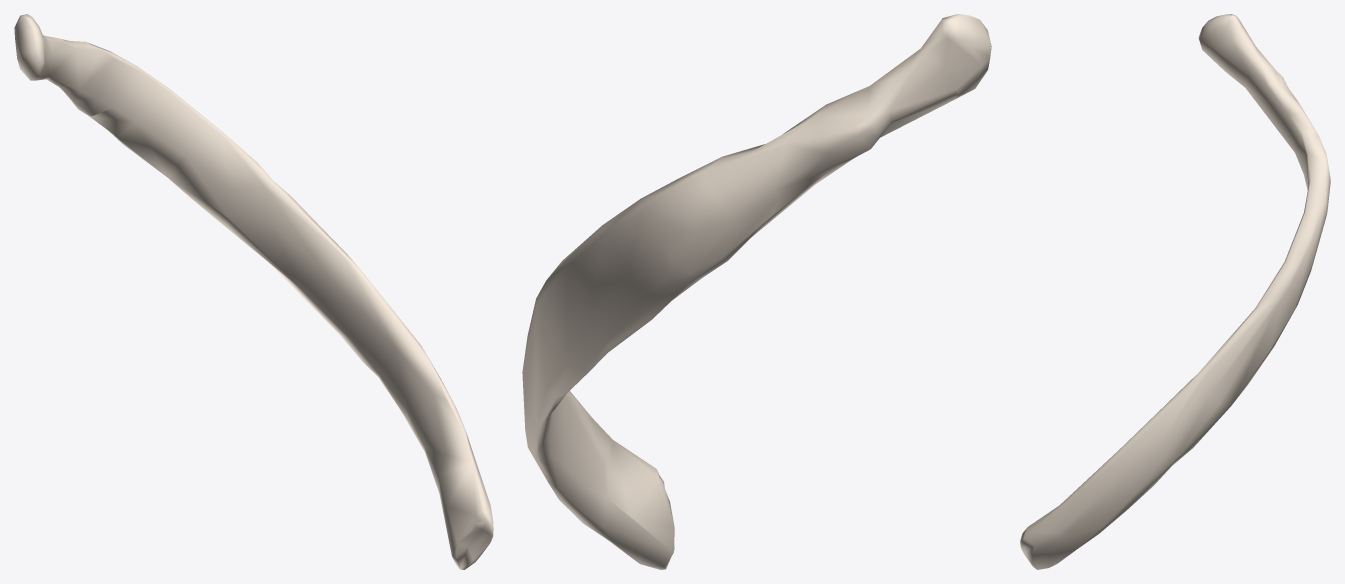
Rendered from left_rib_10.glb.
3 views of the same model, side by side, from view 1: azimuth 30°, elevation 25°; view 2: azimuth 150°, elevation 25°; view 3: azimuth 270°, elevation 25° (orthographic). The views are drawn at different scales.
Parts seen in each view (by area): view 1: Rib (10th).r; view 2: Rib (10th).r; view 3: Rib (10th).r.
Part boxes in pixels (x1=…): Rib (10th).r: x1=14, y1=14, x2=493, y2=569; Rib (10th).r: x1=522, y1=14, x2=991, y2=569; Rib (10th).r: x1=1020, y1=14, x2=1330, y2=569.
Bounding box in the file's own units: 0.1101 × 0.157 × 0.1023.
